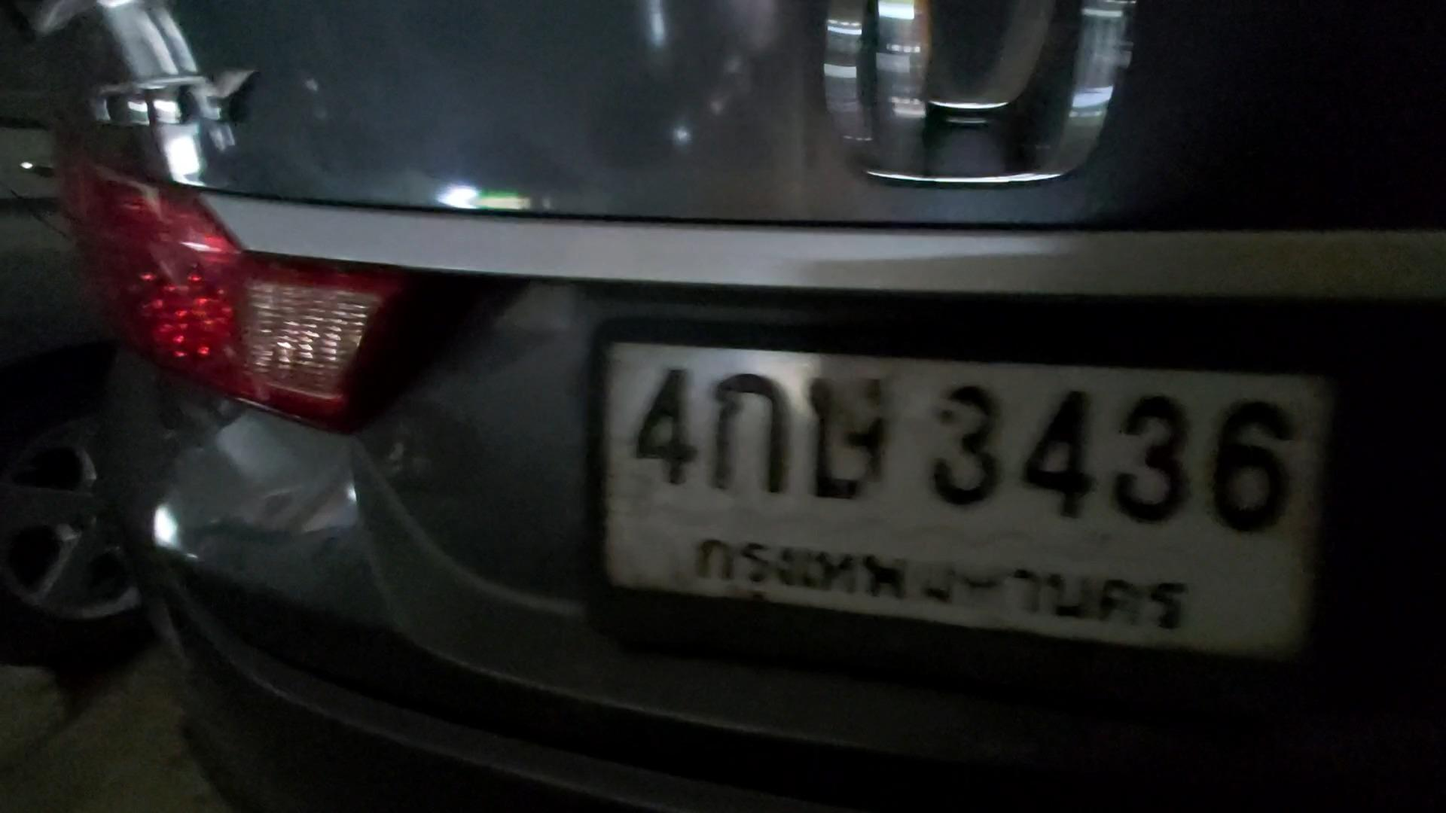license-plate: (618, 352, 1329, 663)
